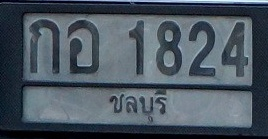txt01: (26, 18, 62, 77)
txt38: (66, 18, 102, 76)
